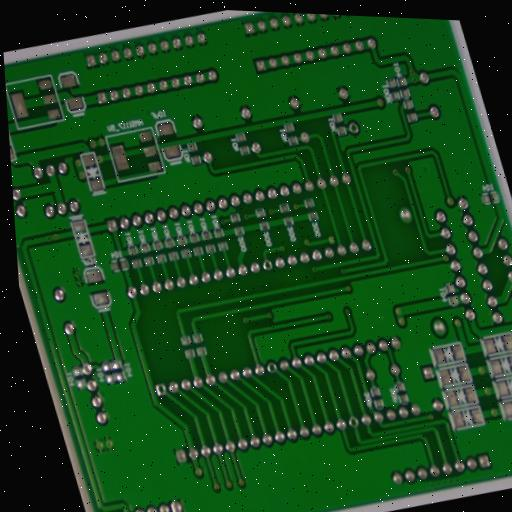missing_hole: (346, 412, 363, 432), (153, 380, 169, 399), (345, 120, 362, 137), (260, 256, 276, 274), (264, 359, 280, 376)
